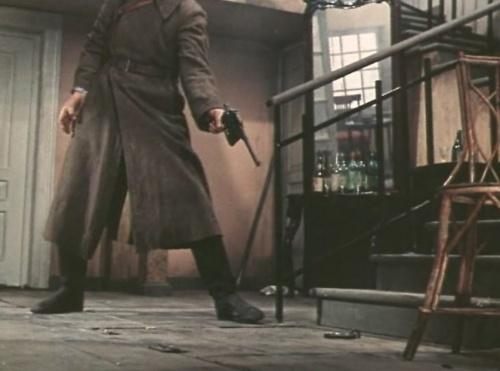Gun: (220, 104, 261, 169)
